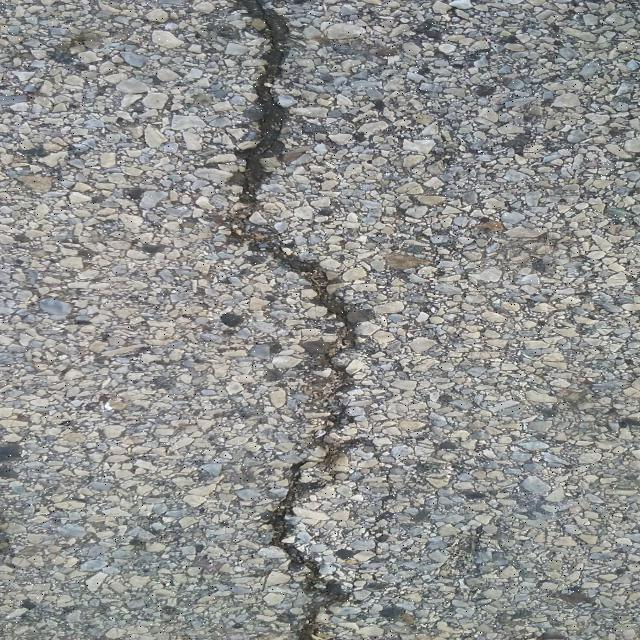Crack: (228, 0, 365, 640)
